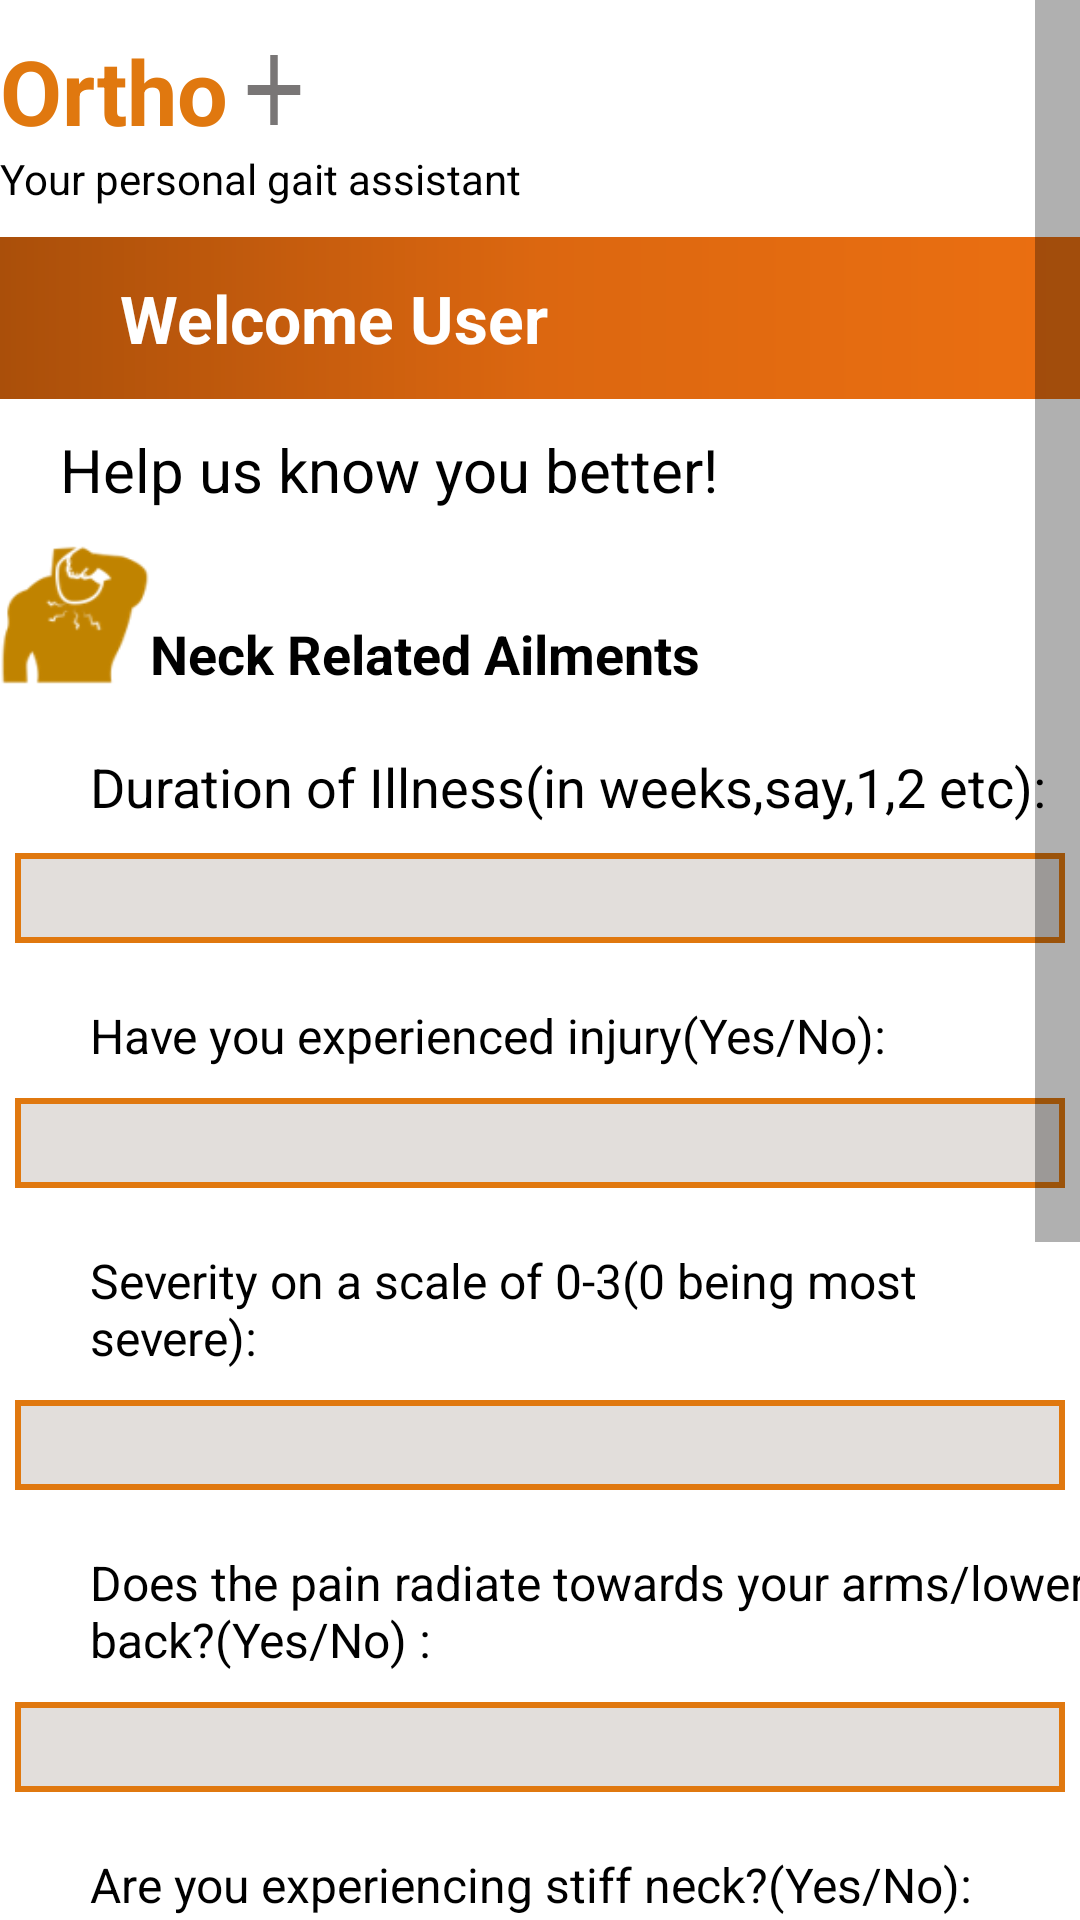

Icons on this 1080×1920 Android screen, each with the point to tap as (x,y):
add: (274,90)
